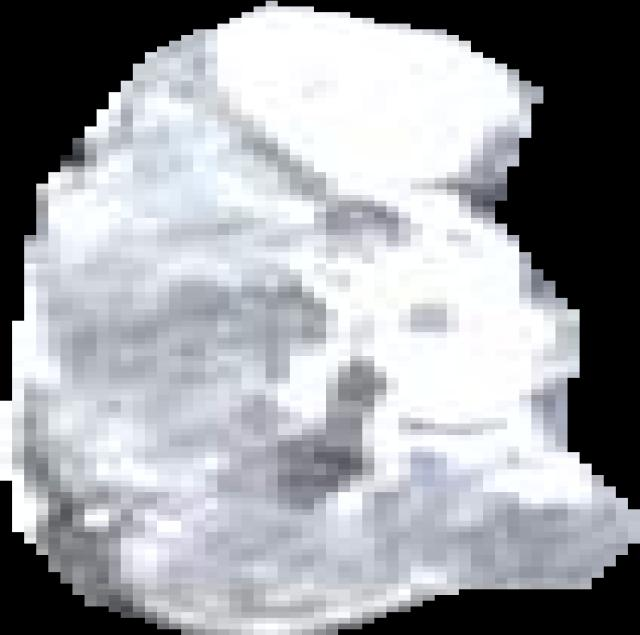tumor_moderate_chance: (0, 1, 640, 635)
